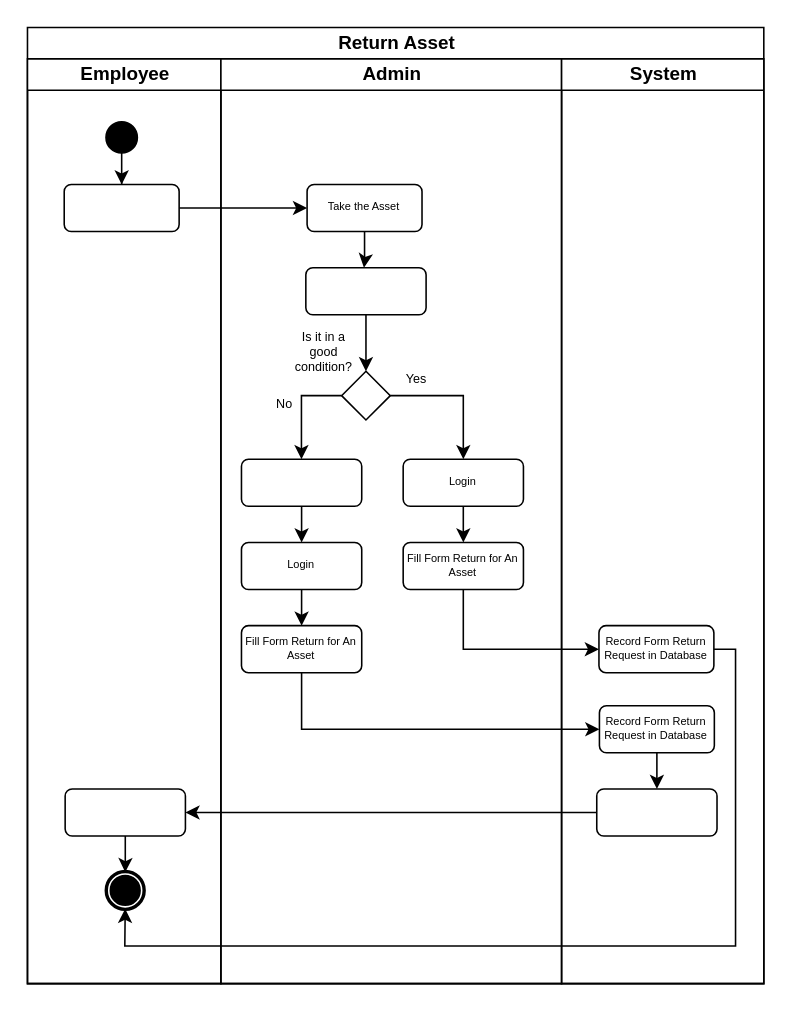
The diagram is 791 pixels wide and 1011 high, and some of its shapes have lost their labels. Each missing label, with the centre of its shape:
"Calculate the Penalty for damages" goes at [301,482].
"Check Condition of the Asset" goes at [365,290].
"Inform the Penalty for damages" goes at [656,811].
"Receive Notification and Pay the Penalty for damages" goes at [124,811].
"Return the Asset" goes at [121,207].
